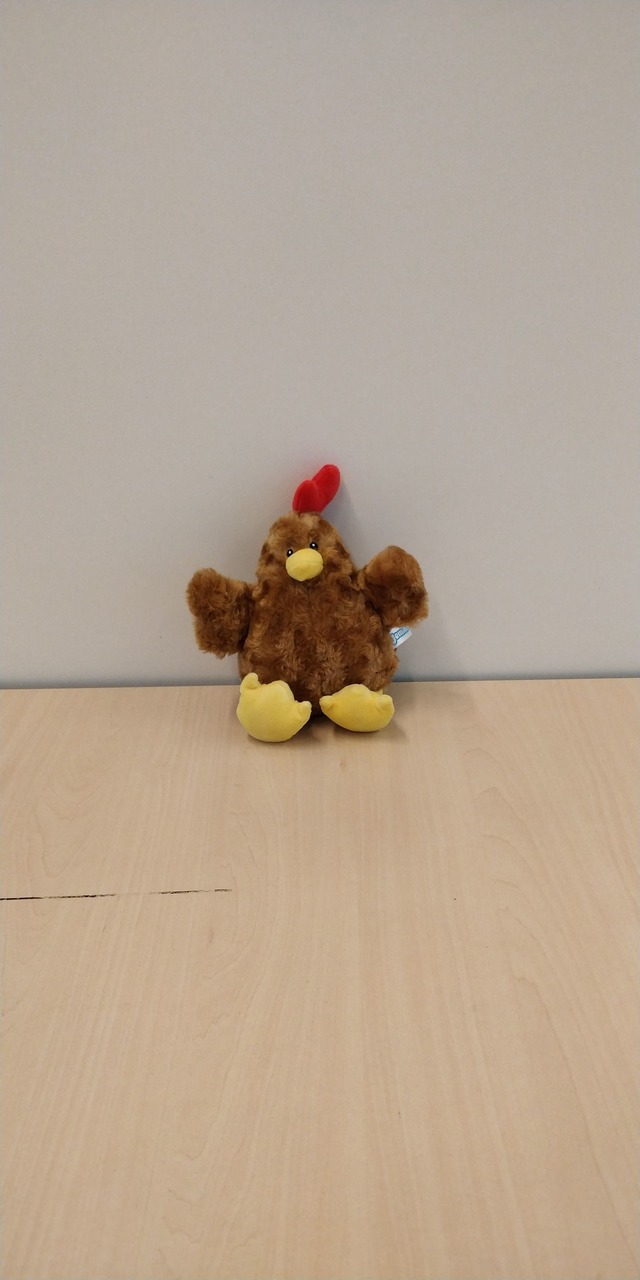fakeChicken: (180, 461, 434, 749)
